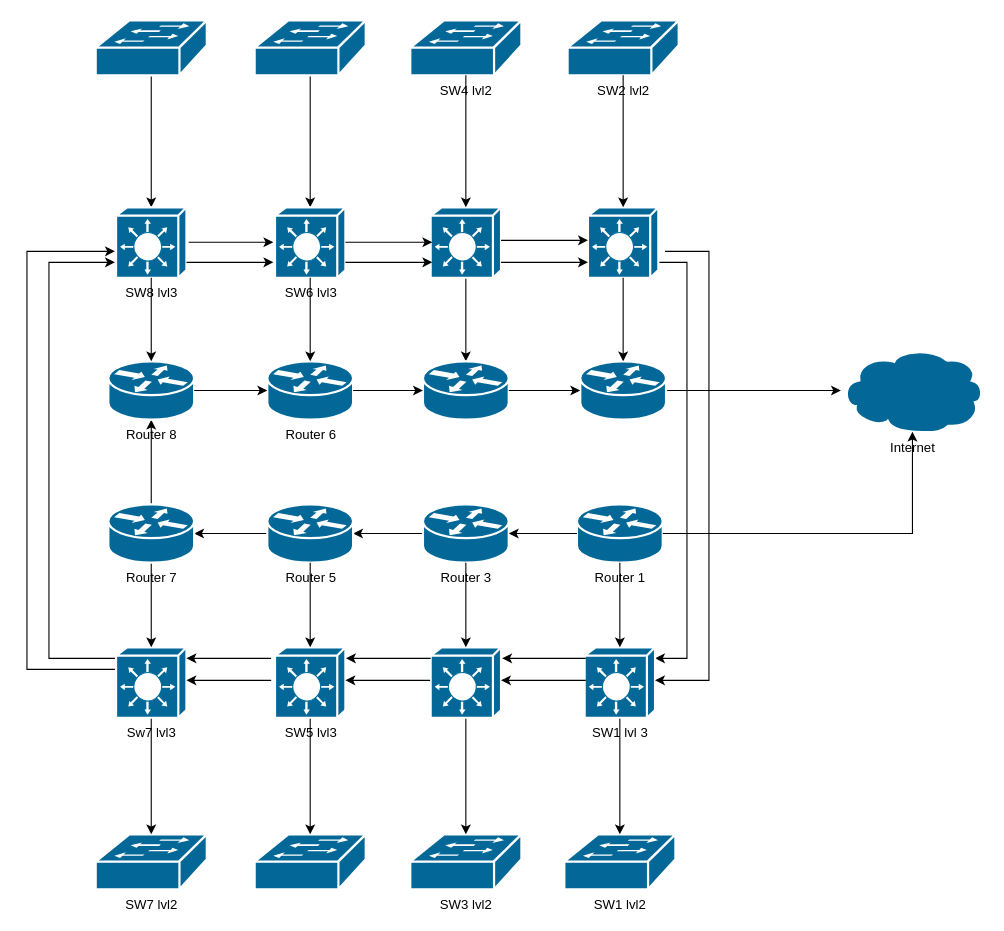
Image size: 1004x931. Some labels were removed from this diagram. Each missing label, with the centre of its shape:
Router 2: (x=623, y=390)
Router 4: (x=465, y=390)
SW2 lvl3: (x=622, y=242)
SW3 lvl3: (x=465, y=682)
SW4 lvl3: (x=465, y=242)
SW5 lvl2: (x=309, y=861)
SW6 lvl2: (x=309, y=47)
SW8 lvl2: (x=150, y=47)
